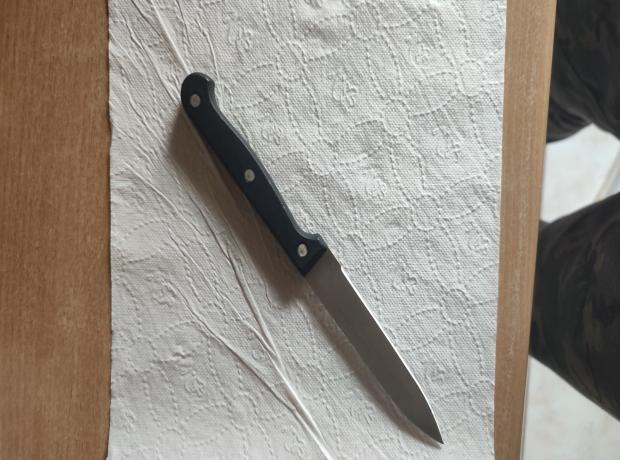metal: (182, 72, 444, 445)
